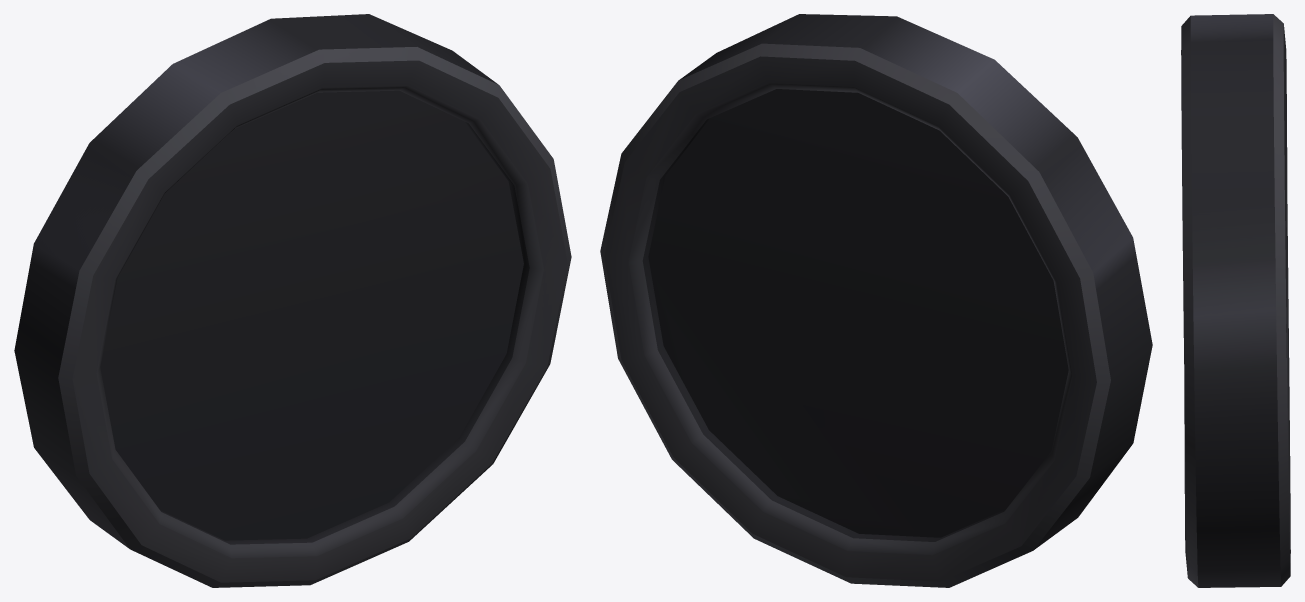
Rendered from badge-dark.glb.
3 views of the same model, side by side, from view 1: azimuth 30°, elevation 25°; view 2: azimuth 150°, elevation 25°; view 3: azimuth 270°, elevation 25° (orthographic). The views are drawn at different scales.
Parts seen in each view (by area): view 1: O_Blip_Coin_01; view 2: O_Blip_Coin_01; view 3: O_Blip_Coin_01.
Part boxes in pixels (box(x1,y1,x2,y2)): O_Blip_Coin_01: box(14, 14, 571, 587); O_Blip_Coin_01: box(600, 14, 1152, 587); O_Blip_Coin_01: box(1181, 14, 1290, 587).
Size of the model in its own units: 0.6903 by 0.6899 by 0.1318.
1 material, 1 textured.
